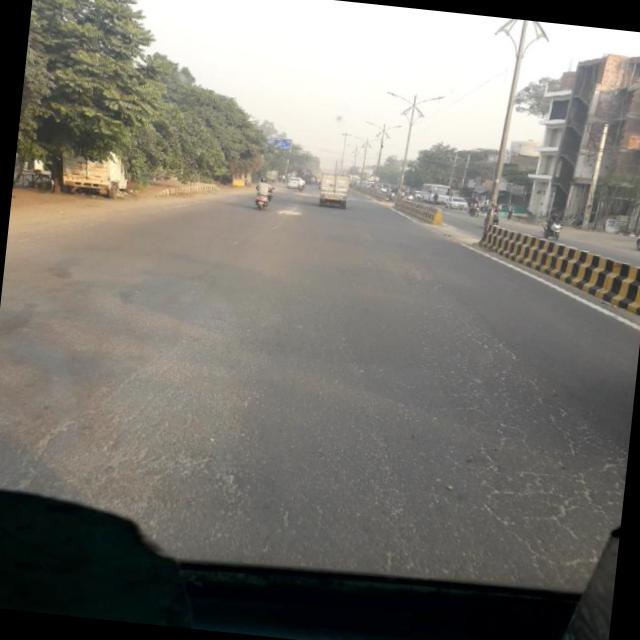crack: (376, 298, 636, 588), (18, 344, 330, 524)
